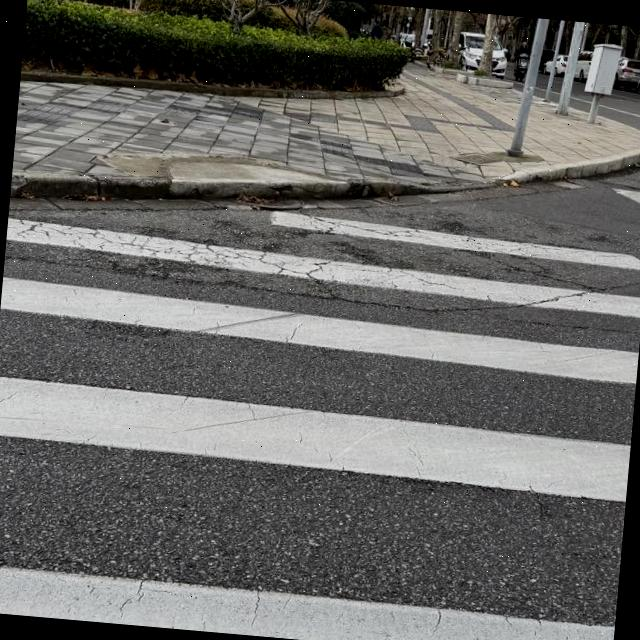curb: (20, 70, 404, 99), (10, 175, 462, 199), (468, 149, 640, 186)
